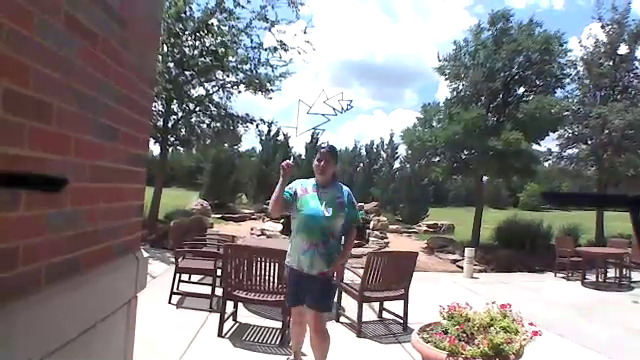up: (274, 147, 298, 183)
